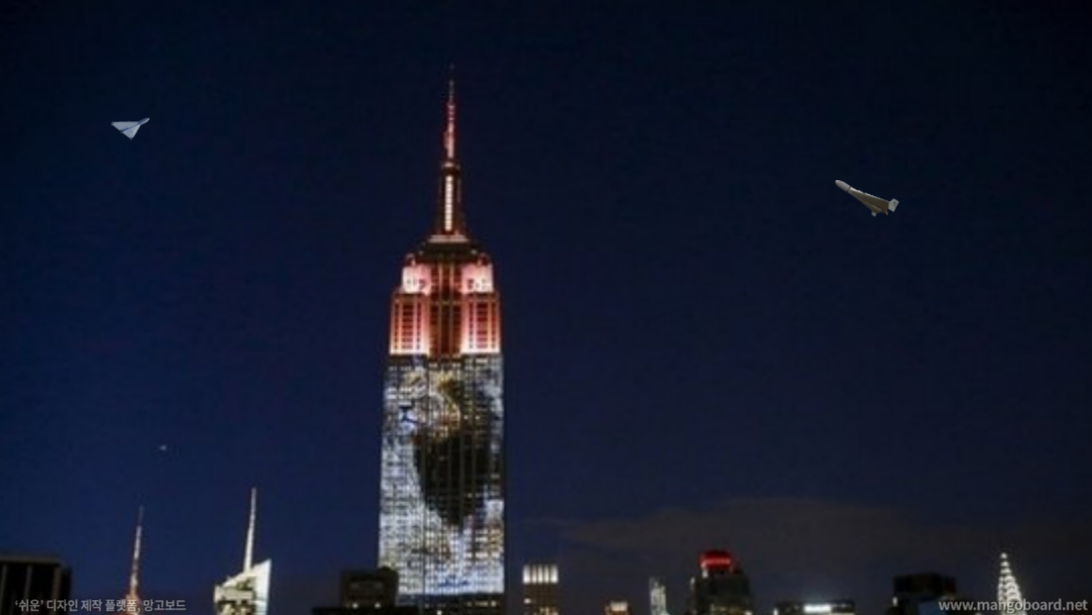military drone: (835, 179, 899, 216), (111, 117, 149, 140)
